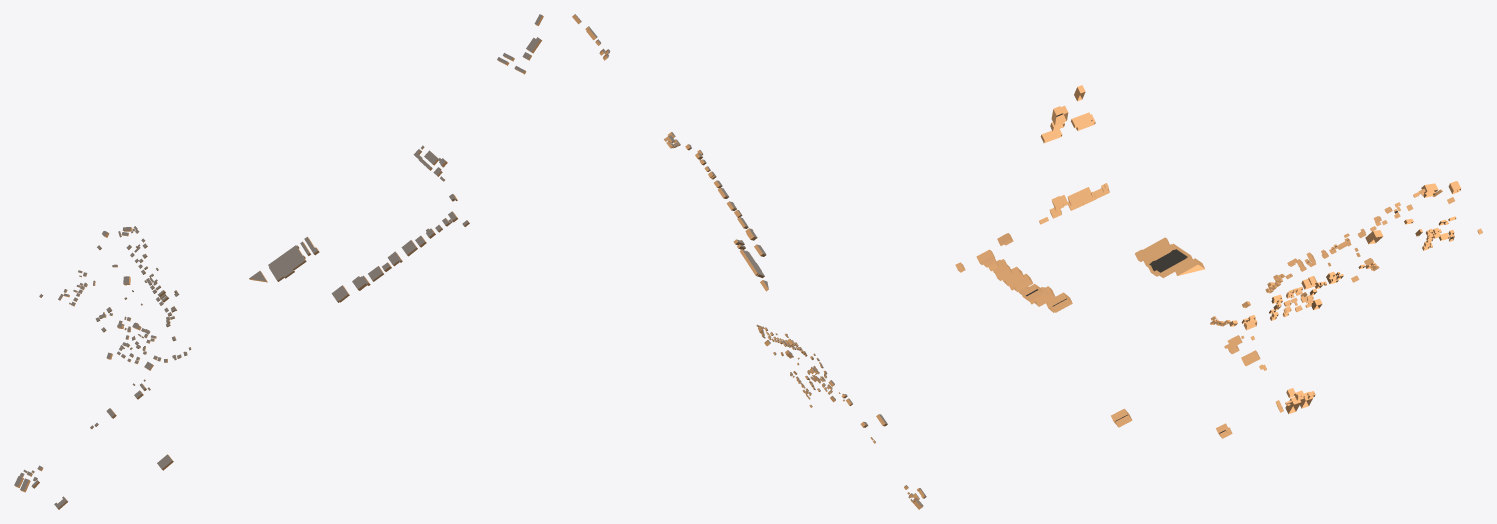
The model's file is building.fbx.
3 views of the same model, side by side, from view 1: azimuth 30°, elevation 25°; view 2: azimuth 150°, elevation 25°; view 3: azimuth 270°, elevation 25° (orthographic). The views are drawn at different scales.
Parts seen in each view (by area): view 1: map_24.osm_buildings; view 2: map_24.osm_buildings; view 3: map_24.osm_buildings.
Boxes of the visible parts, box(x1,y1,x2,y2) form: map_24.osm_buildings: box(14, 14, 543, 509); map_24.osm_buildings: box(572, 14, 926, 509); map_24.osm_buildings: box(955, 85, 1482, 438).
Bounding box in the file's own units: 203666 × 174766 × 114581.
